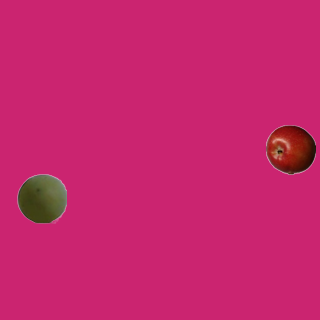Apple Braeburn: (265, 124, 315, 174)
Grape White 4: (16, 173, 66, 223)
